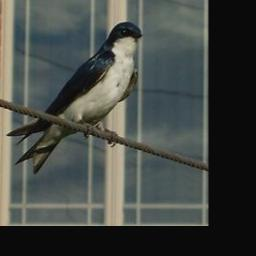Swallow: (5, 20, 143, 175)
